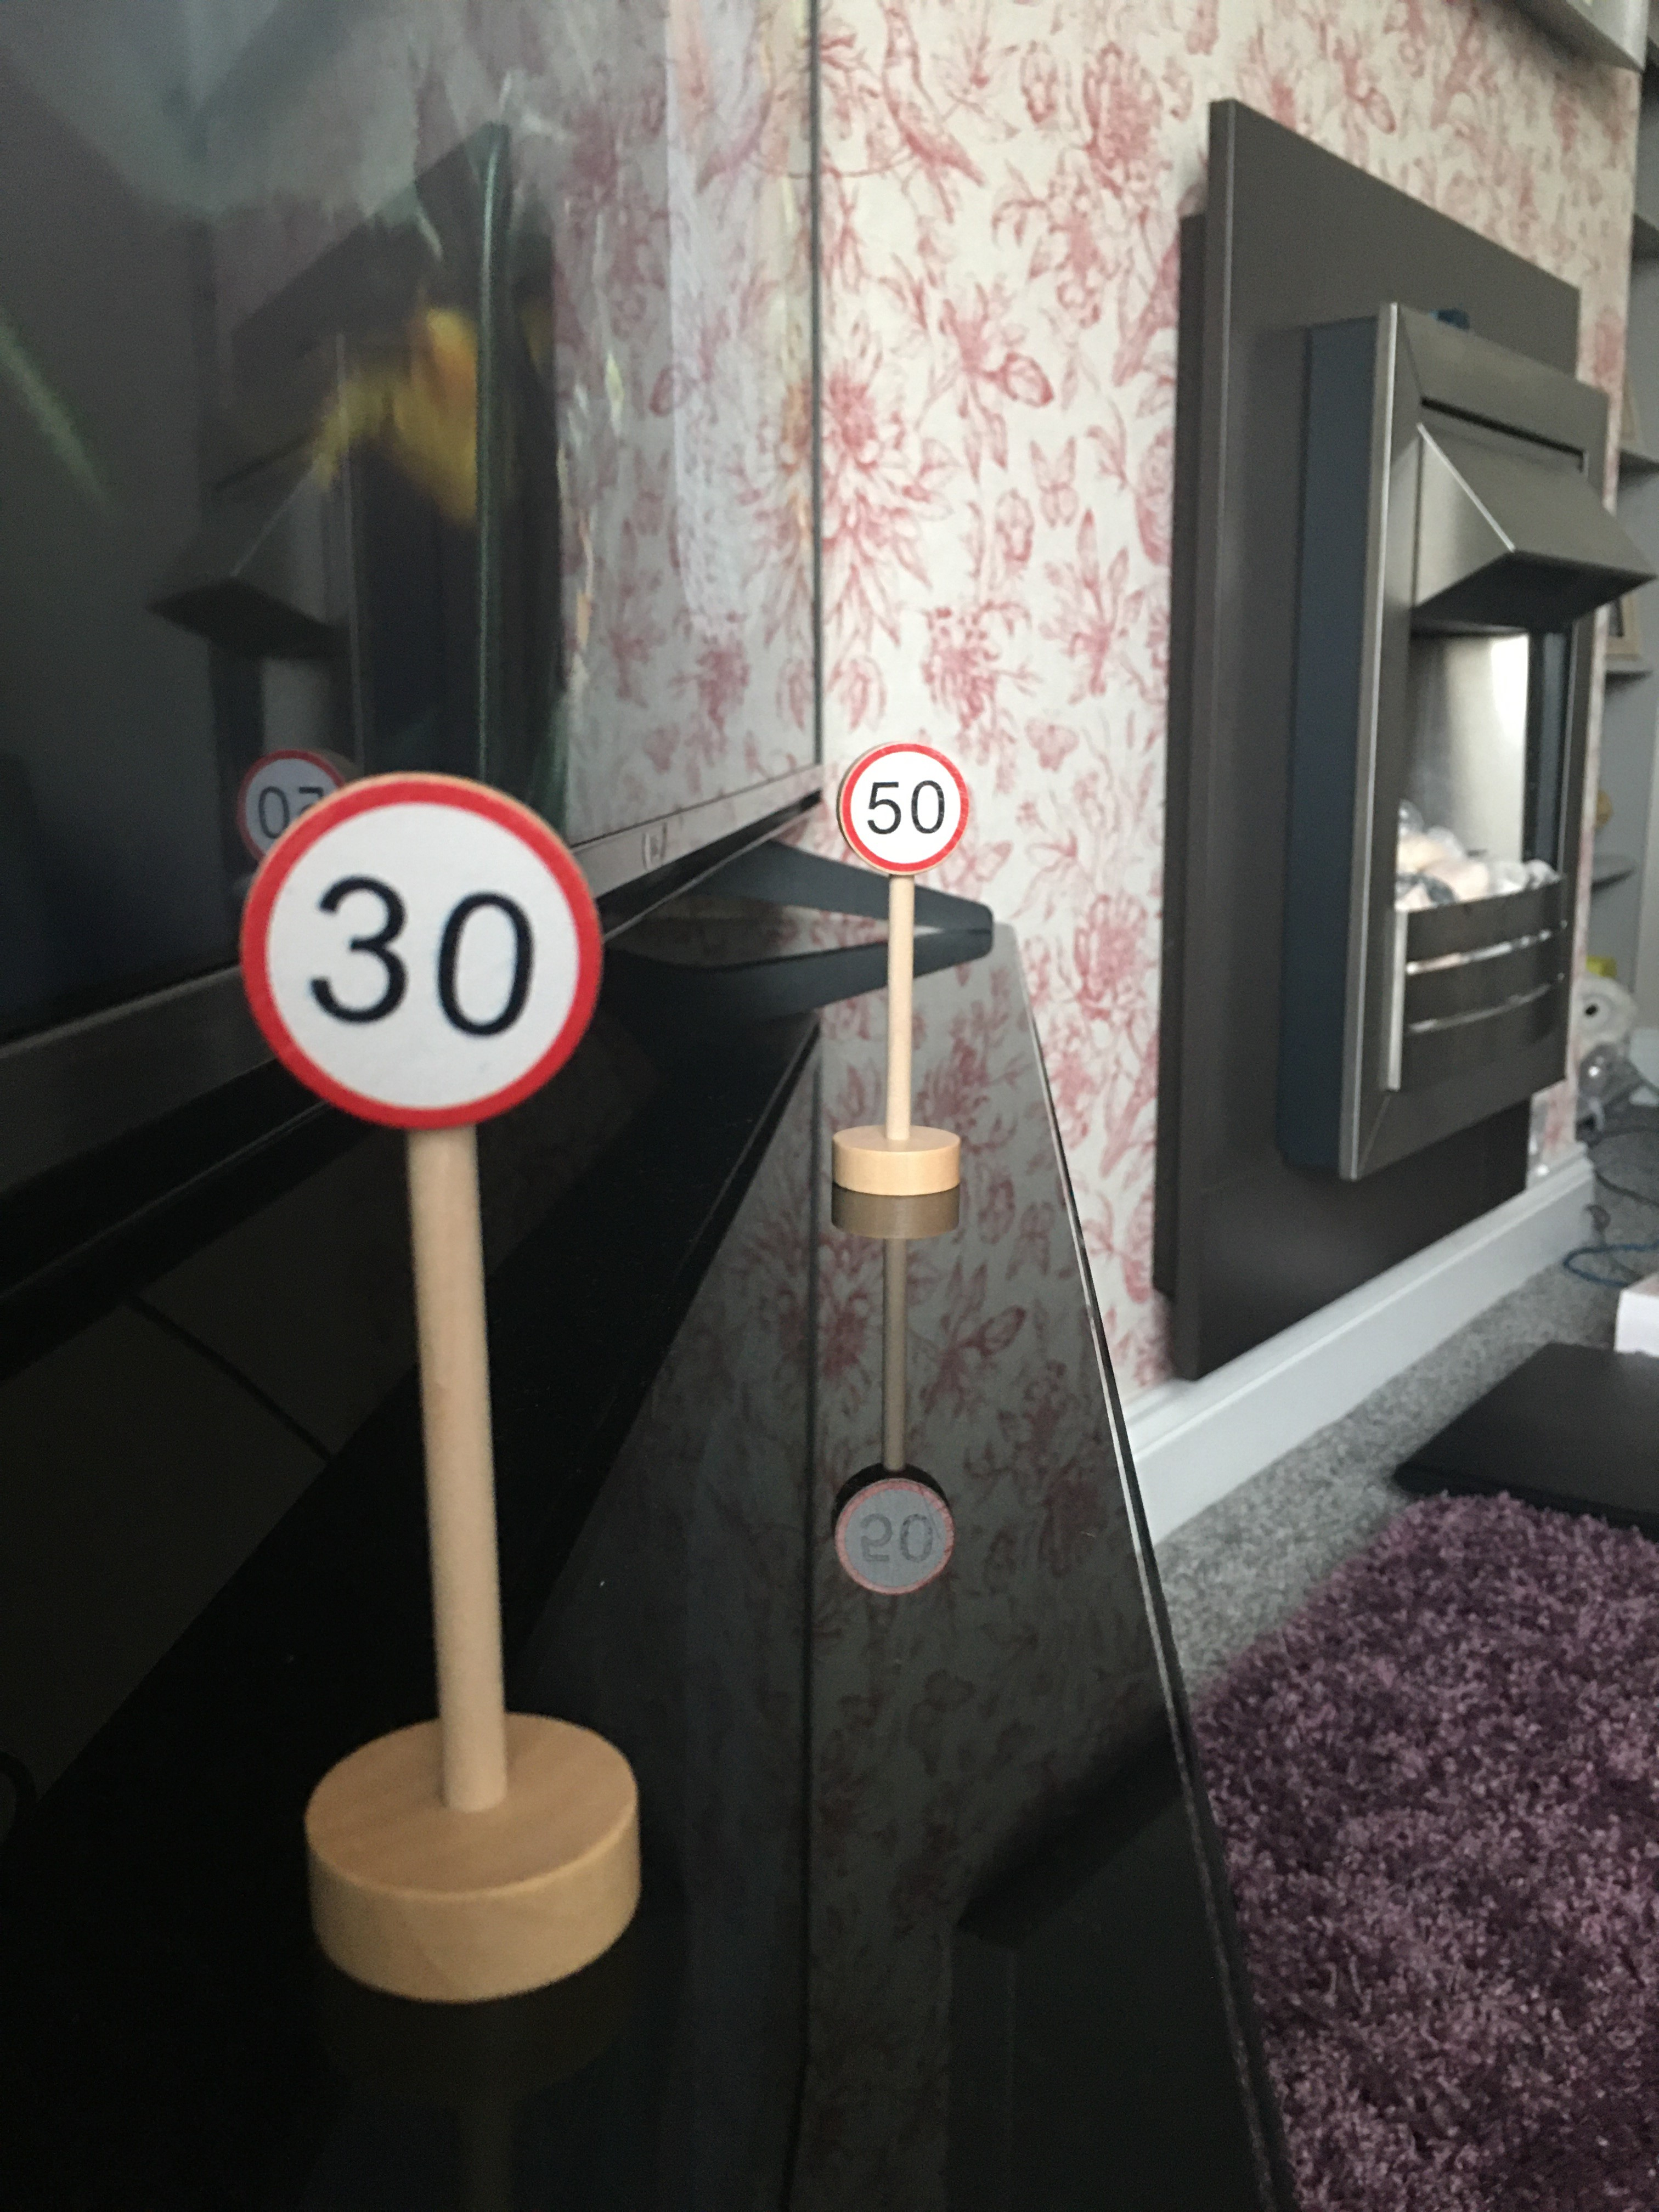Traffic_Sign_30: (251, 775, 605, 1118)
Traffic_Sign_50: (843, 752, 969, 866)
